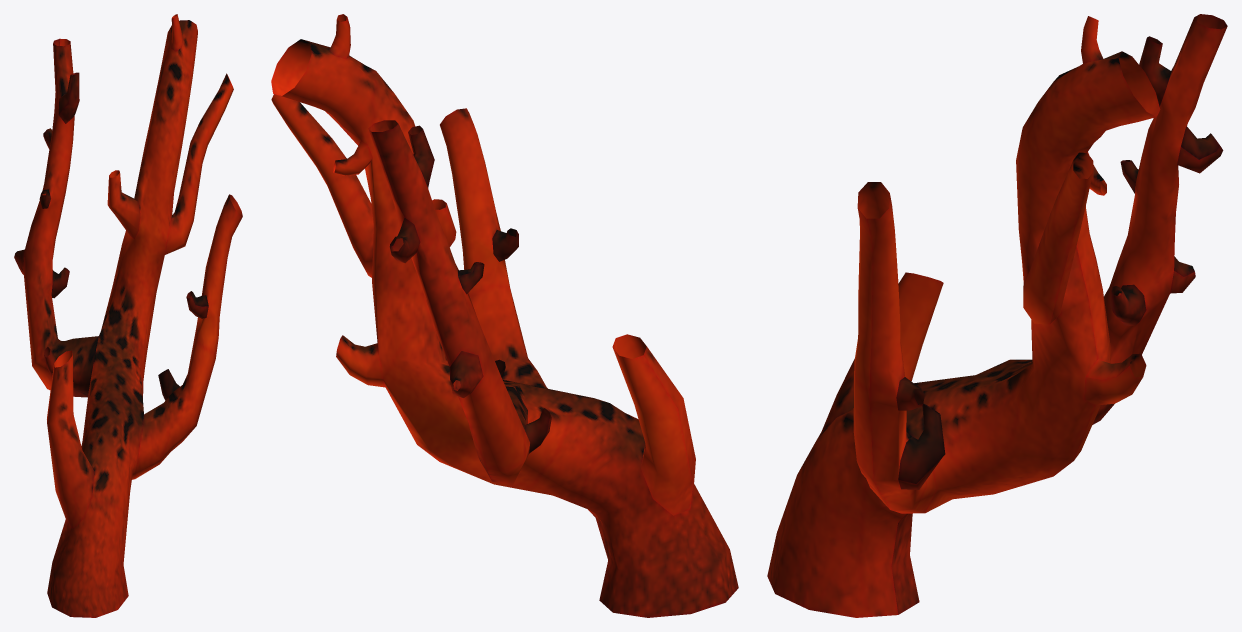
Rendered from Corallo.FBX.
3 views of the same model, side by side, from view 1: azimuth 30°, elevation 25°; view 2: azimuth 150°, elevation 25°; view 3: azimuth 270°, elevation 25° (orthographic). The views are drawn at different scales.
Parts seen in each view (by area): view 1: Object009; view 2: Object009; view 3: Object009.
Part boxes in pixels (box(x1,y1,x2,y2)): Object009: box(14, 14, 242, 617); Object009: box(271, 14, 738, 617); Object009: box(767, 14, 1227, 617).
Bounding box in the file's own units: 316 × 534 × 320.
